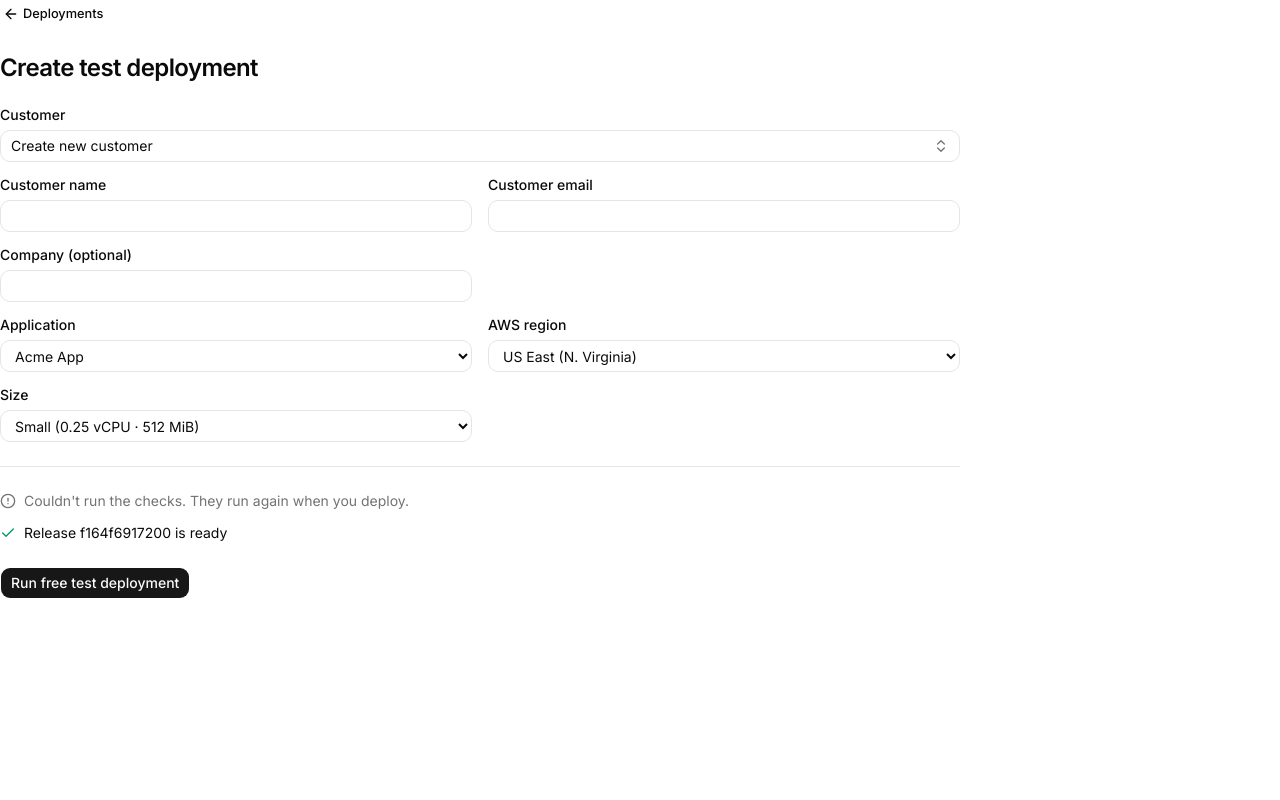
Test case: create-installation page (invitation-first) › ?test=true still creates the deployment directly with the vendor-chosen region
Click the dropdown with id "customer-picker-trigger" at (82, 146), box [0,130,960,162]
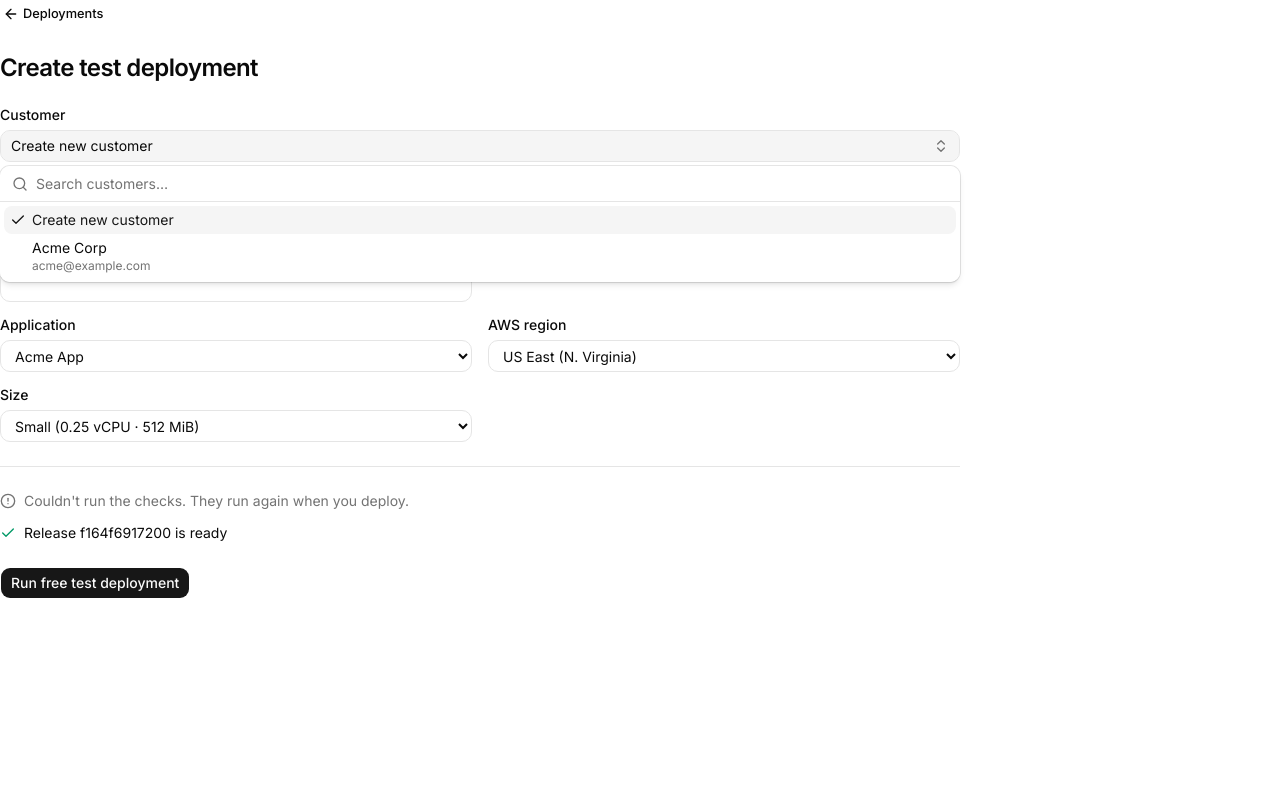
Click the option "Acme Corp acme@example.com" at (91, 256), box [32,239,150,273]
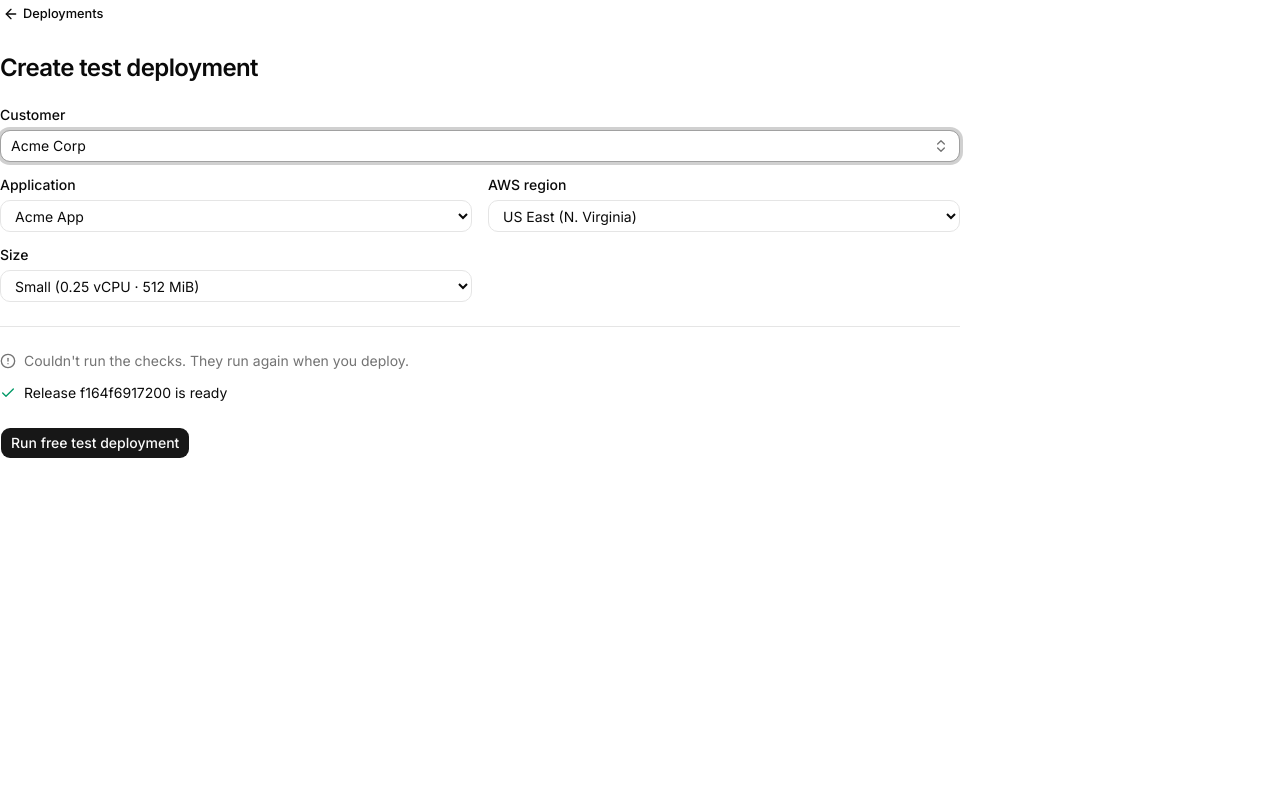
Expected: the dropdown with id "region" shows "US East (N. Virginia)", [488,200,960,232]
Click the button "Run free test deployment" at (95, 443), box [0,427,190,459]
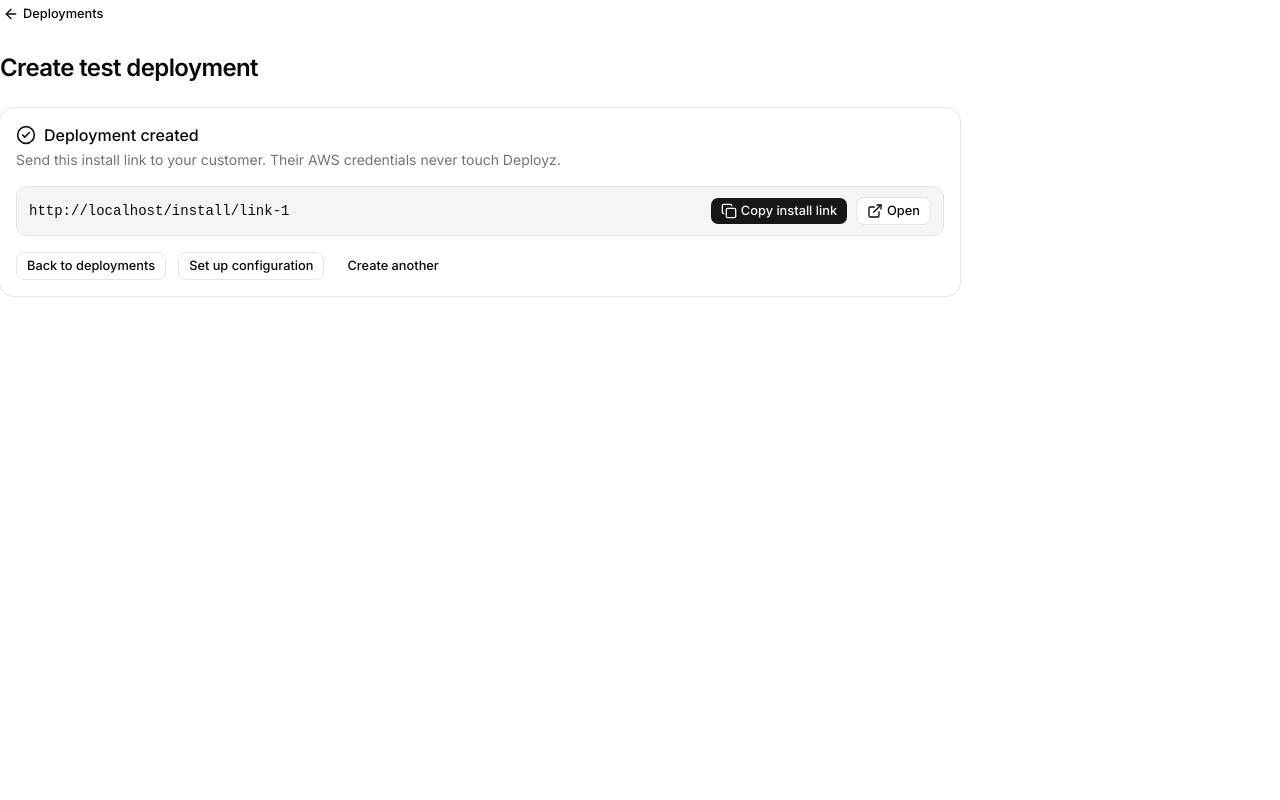
Result: the text "Deployment created" is shown at [44,124,199,146]
